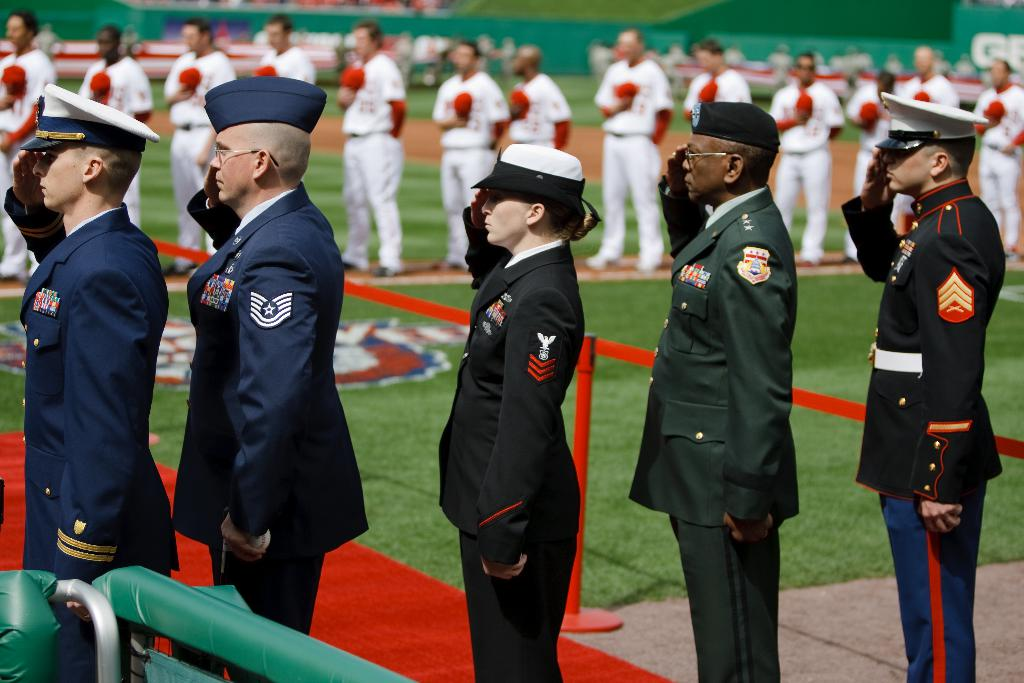Person: (0, 11, 1023, 683)
